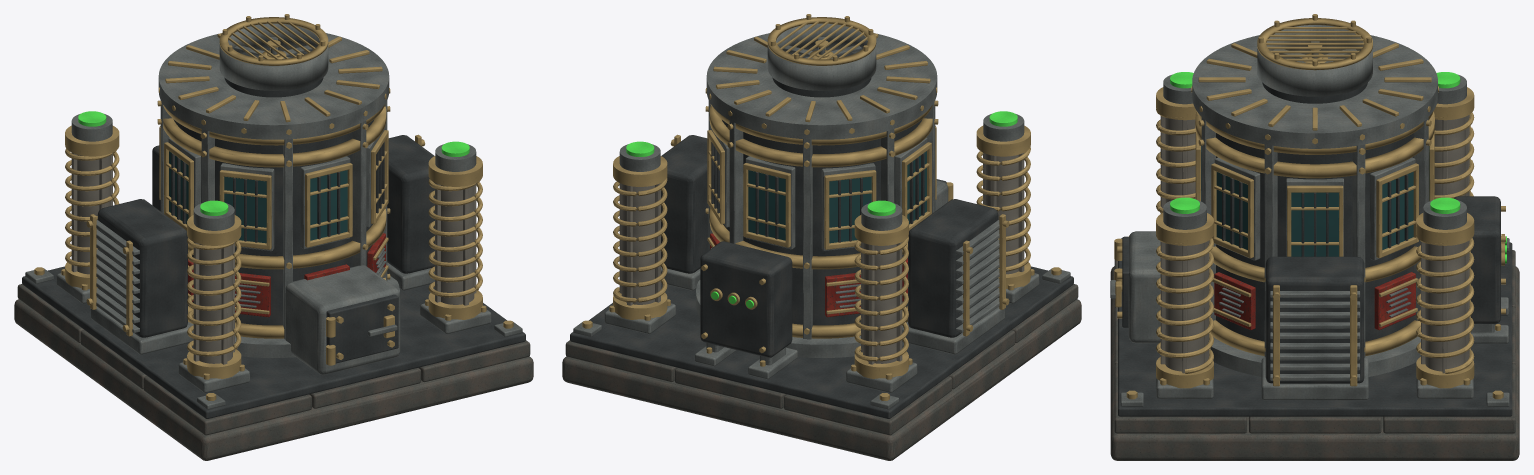
The model's file is entropic-v02.glb.
3 views of the same model, side by side, from view 1: azimuth 30°, elevation 25°; view 2: azimuth 150°, elevation 25°; view 3: azimuth 270°, elevation 25° (orthographic). The views are drawn at different scales.
Parts seen in each view (by area): view 1: ENTROPIC | retained armored deck, ENTROPIC | quarried founded slab, ENTROPIC | sealed roof casting, ENTROPIC | closed thermal side casting, ENTROPIC | fuel vestibule founded casing, ENTROPIC | closed thermal side casting.001, ENTROPIC | closed blackstone conversion mantle, ENTROPIC | stationary fan annular housing, ENTROPIC | closed fragment fuel hatch, ENTROPIC | mantle seated retaining band.002, ENTROPIC | dressed plinth block, ENTROPIC | pylon -1.04 -0.91 continuous supported copper win (+44 smaller); view 2: ENTROPIC | retained armored deck, ENTROPIC | quarried founded slab, ENTROPIC | sealed roof casting, ENTROPIC | closed rear regulating casket, ENTROPIC | closed thermal side casting, ENTROPIC | closed blackstone conversion mantle, ENTROPIC | closed thermal side casting.001, ENTROPIC | stationary fan annular housing, ENTROPIC | mantle seated retaining band.002, ENTROPIC | pylon 1.04 0.91 continuous supported copper windi, ENTROPIC | pylon -1.04 0.91 continuous supported copper wind, ENTROPIC | dressed plinth block.002 (+44 smaller); view 3: ENTROPIC | retained armored deck, ENTROPIC | sealed roof casting, ENTROPIC | quarried founded slab, ENTROPIC | closed thermal side casting.001, ENTROPIC | closed blackstone conversion mantle, ENTROPIC | stationary fan annular housing, ENTROPIC | closed rear regulating casket, ENTROPIC | mantle seated retaining band.002, ENTROPIC | fuel vestibule founded casing, ENTROPIC | pylon 1.04 0.91 ceramic core, ENTROPIC | pylon 1.04 -0.91 ceramic core, ENTROPIC | pylon 1.04 0.91 continuous supported copper windi (+62 smaller).
Boxes of the visible parts, bbox=[...] form: ENTROPIC | retained armored deck: bbox=[22, 266, 525, 418]; ENTROPIC | quarried founded slab: bbox=[14, 299, 533, 460]; ENTROPIC | sealed roof casting: bbox=[158, 33, 389, 139]; ENTROPIC | closed thermal side casting: bbox=[97, 199, 187, 337]; ENTROPIC | fuel vestibule founded casing: bbox=[285, 265, 400, 374]; ENTROPIC | closed thermal side casting.001: bbox=[387, 135, 434, 273]; ENTROPIC | closed blackstone conversion mantle: bbox=[173, 119, 373, 325]; ENTROPIC | stationary fan annular housing: bbox=[219, 23, 328, 90]; ENTROPIC | closed fragment fuel hatch: bbox=[326, 294, 398, 363]; ENTROPIC | mantle seated retaining band.002: bbox=[163, 106, 386, 167]; ENTROPIC | dressed plinth block: bbox=[143, 376, 311, 435]; ENTROPIC | pylon -1.04 -0.91 continuous supported copper win: bbox=[187, 238, 241, 356]; ENTROPIC | retained armored deck: bbox=[570, 266, 1073, 418]; ENTROPIC | quarried founded slab: bbox=[562, 299, 1081, 460]; ENTROPIC | sealed roof casting: bbox=[706, 33, 937, 139]; ENTROPIC | closed rear regulating casket: bbox=[700, 241, 792, 357]; ENTROPIC | closed thermal side casting: bbox=[908, 199, 998, 337]; ENTROPIC | closed blackstone conversion mantle: bbox=[722, 119, 922, 325]; ENTROPIC | closed thermal side casting.001: bbox=[661, 135, 708, 273]; ENTROPIC | stationary fan annular housing: bbox=[767, 23, 876, 90]; ENTROPIC | mantle seated retaining band.002: bbox=[709, 106, 932, 167]; ENTROPIC | pylon 1.04 0.91 continuous supported copper windi: bbox=[613, 177, 667, 302]; ENTROPIC | pylon -1.04 0.91 continuous supported copper wind: bbox=[854, 236, 908, 361]; ENTROPIC | dressed plinth block.002: bbox=[784, 376, 952, 435]; ENTROPIC | retained armored deck: bbox=[1118, 242, 1512, 416]; ENTROPIC | sealed roof casting: bbox=[1192, 35, 1437, 148]; ENTROPIC | quarried founded slab: bbox=[1110, 266, 1519, 460]; ENTROPIC | closed thermal side casting.001: bbox=[1265, 256, 1364, 383]; ENTROPIC | closed blackstone conversion mantle: bbox=[1216, 133, 1414, 341]; ENTROPIC | stationary fan annular housing: bbox=[1257, 25, 1372, 96]; ENTROPIC | closed rear regulating casket: bbox=[1454, 196, 1500, 323]; ENTROPIC | mantle seated retaining band.002: bbox=[1195, 111, 1434, 178]; ENTROPIC | fuel vestibule founded casing: bbox=[1128, 231, 1160, 343]; ENTROPIC | pylon 1.04 0.91 ceramic core: bbox=[1425, 242, 1464, 371]; ENTROPIC | pylon 1.04 -0.91 ceramic core: bbox=[1165, 242, 1204, 371]; ENTROPIC | pylon 1.04 0.91 continuous supported copper windi: bbox=[1416, 235, 1474, 373].
Size of the model in its own units: 2.89 by 2.62 by 2.86.
Materials: 8 (8 with a texture image).
